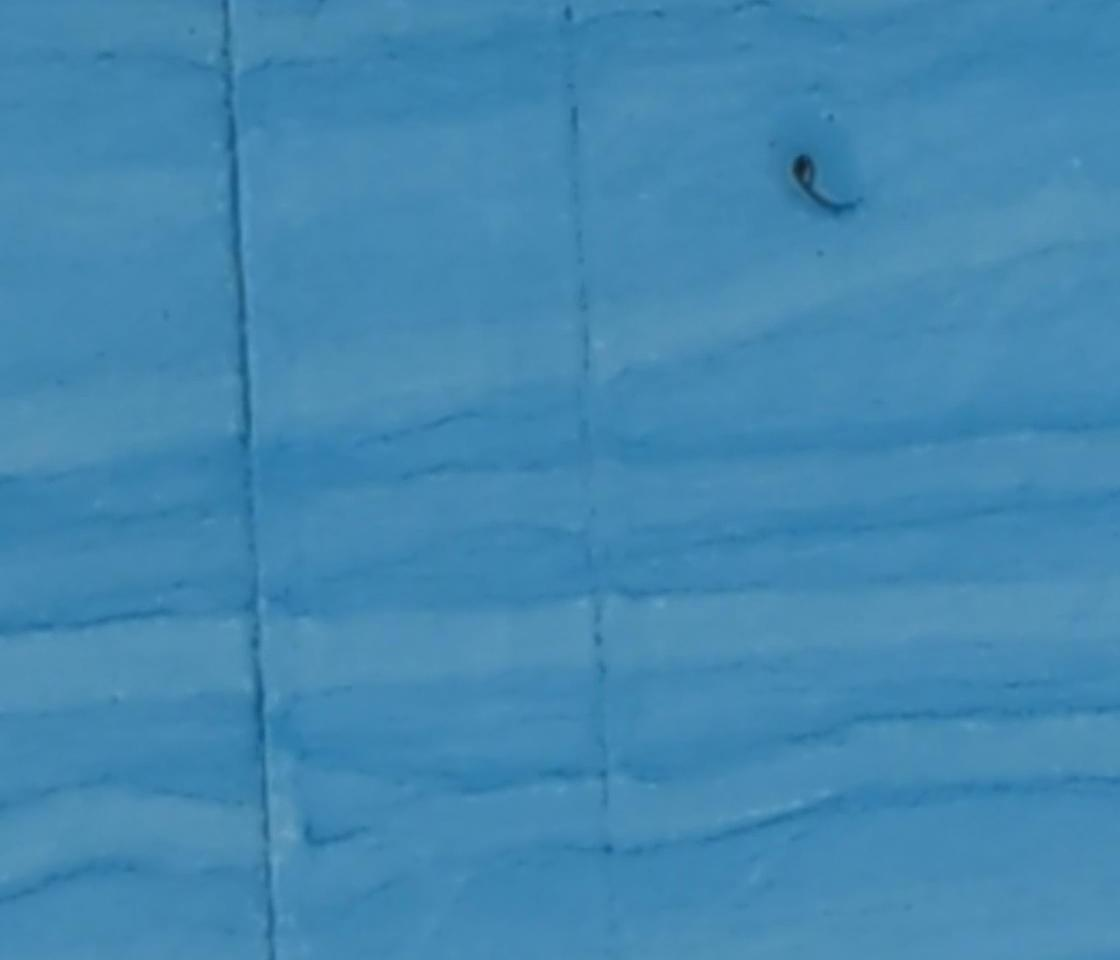scratch: (781, 149, 865, 225)
